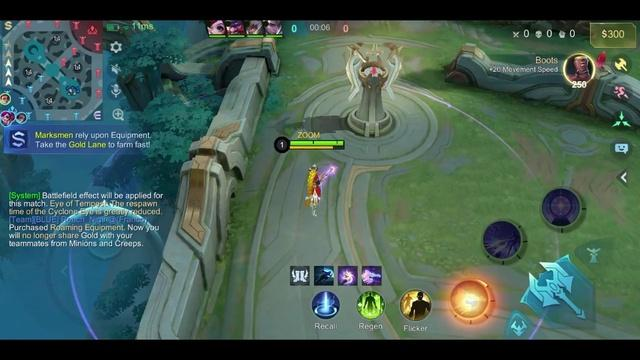EXP_Lane: (93, 110, 102, 122)
Energia: (291, 146, 344, 150)
Exp_Aliado: (1, 117, 12, 127)
Gold_Lane: (0, 20, 15, 30)
HP_Heroe_Principal: (290, 141, 346, 145)
Hechizo_Batalla: (400, 289, 431, 320)
Jungla_Aliado: (15, 113, 28, 123)
Lesly: (305, 164, 334, 215)
Mid_Aliado: (0, 111, 11, 119)
Minimapa: (3, 22, 105, 120)
Roamer_Aliado: (9, 110, 14, 122)
Skill1: (449, 279, 493, 322)
Torre_Aliada: (344, 43, 401, 137)
